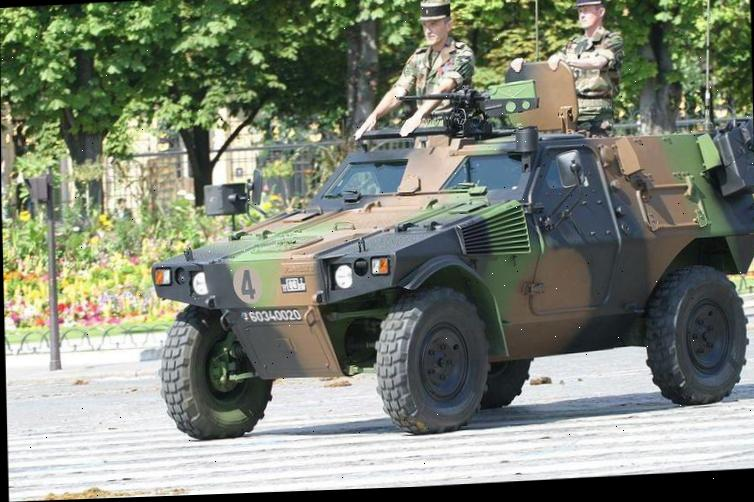armored_car: (145, 48, 754, 448)
